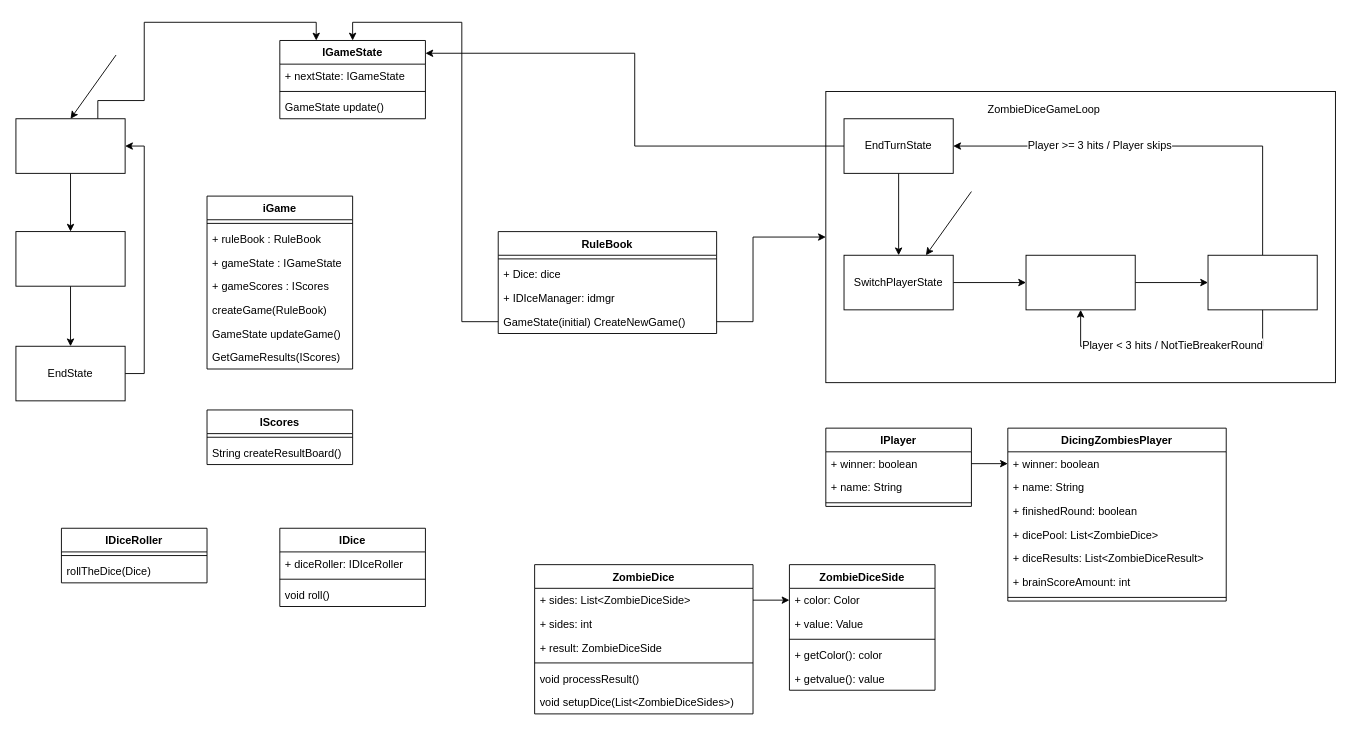
The diagram is 1351 pixels wide and 733 high, and some of its shapes have lost their labels. The centre of each missing label's shape, as x and y in pixels:
InitialState: (70,145)
PlayState: (70,258)
RollDiceState: (1080,282)
RollResultState: (1262,282)
